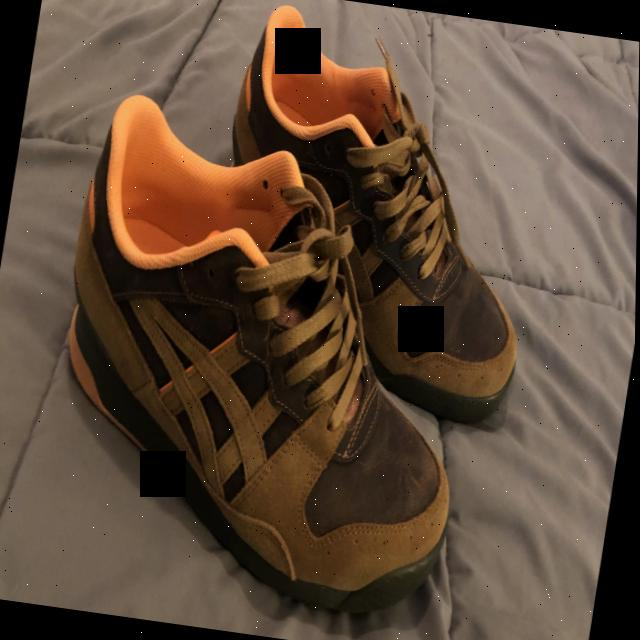shoes: (27, 86, 511, 628), (190, 0, 570, 433)
